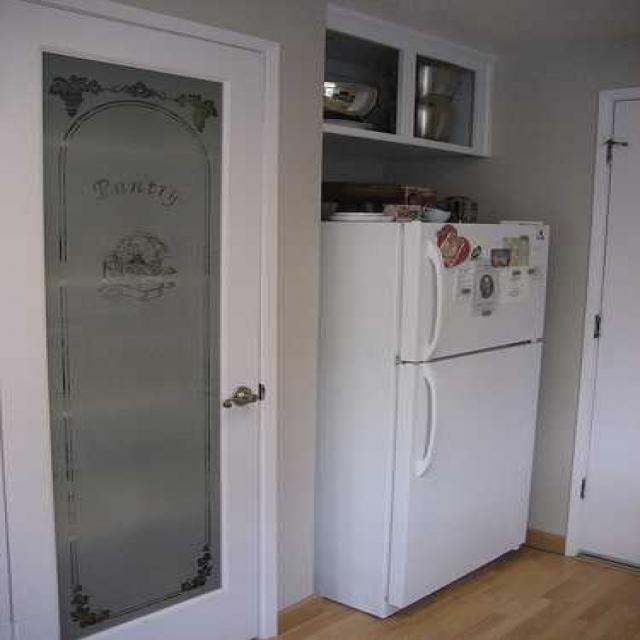refrigerator: (313, 214, 548, 616)
